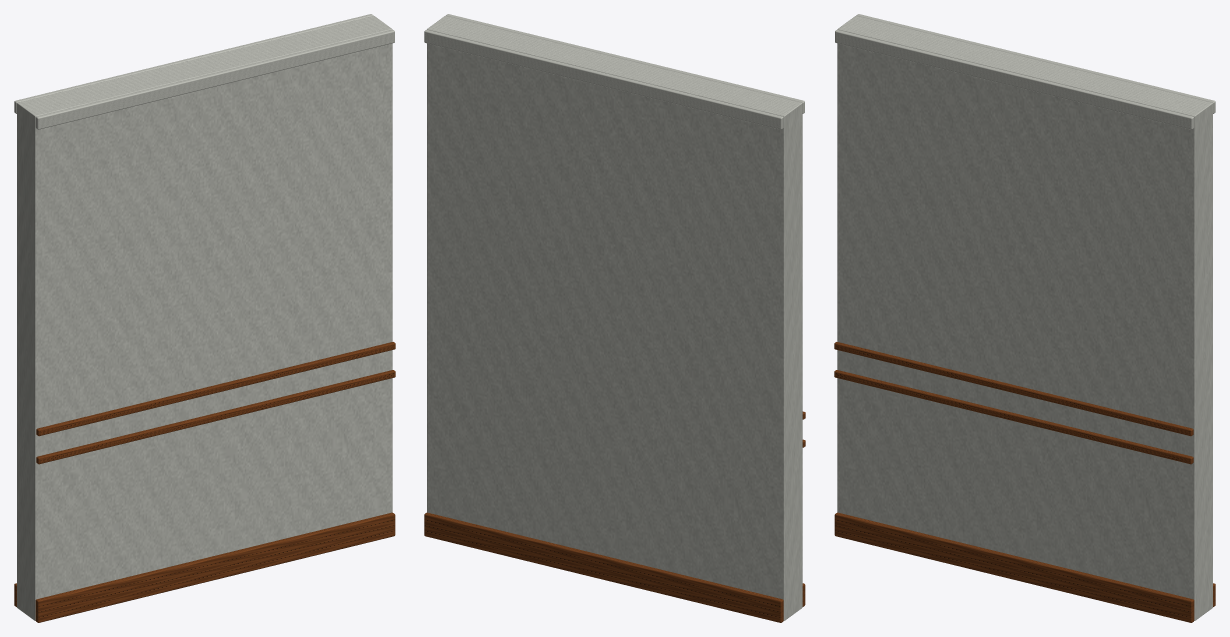
File: liminal-spaces-kit-hotel-corridor-wall-bf752f15__25323.glb
3 views of the same model, side by side, from view 1: azimuth 30°, elevation 25°; view 2: azimuth 150°, elevation 25°; view 3: azimuth 330°, elevation 25° (orthographic).
Parts seen in each view (by area): view 1: hotel-corridor-wall; view 2: hotel-corridor-wall; view 3: hotel-corridor-wall.
Boxes of the visible parts, <box> form: hotel-corridor-wall: <box>14,14,395,622</box>; hotel-corridor-wall: <box>424,14,805,622</box>; hotel-corridor-wall: <box>834,14,1215,622</box>.
Size of the model in its own units: 2 by 2.7 by 0.2405.
2 materials, 2 textured.
